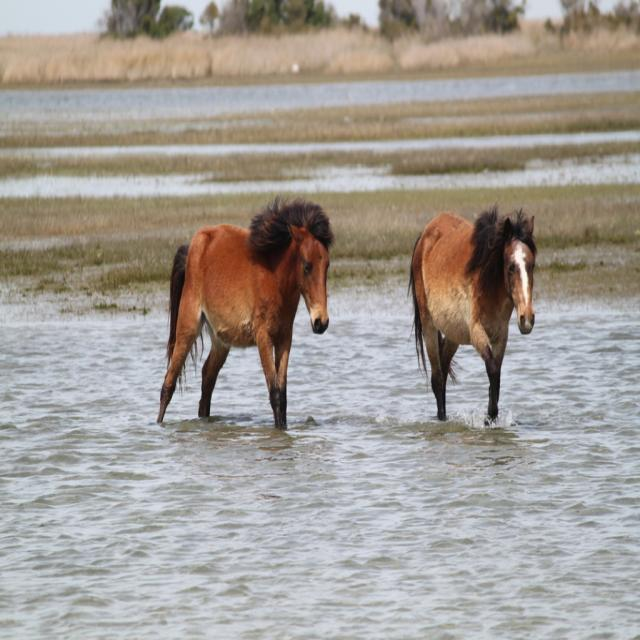Horse: (157, 193, 338, 422), (408, 200, 541, 424)
